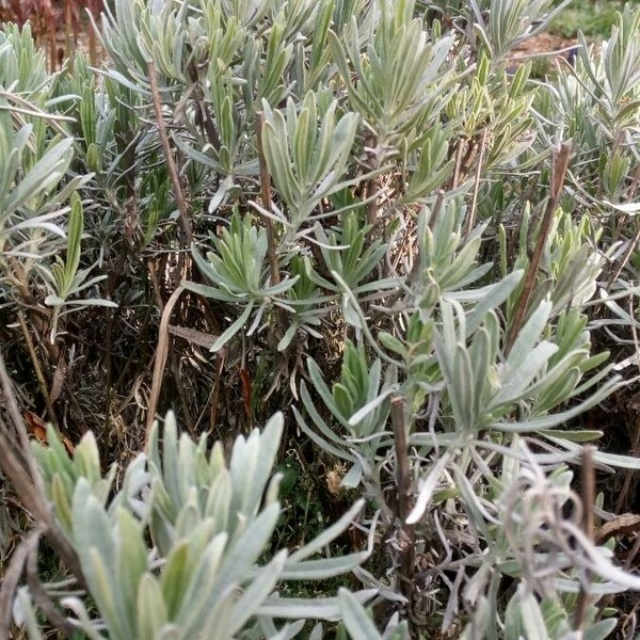obstacle: (143, 54, 571, 535)
